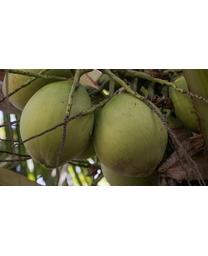coconut: (19, 81, 93, 169), (97, 92, 167, 175)
